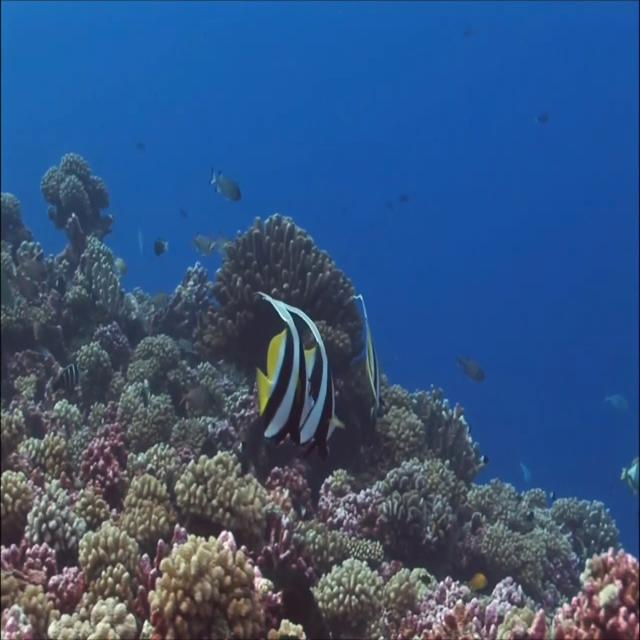Bannerfish: (257, 293, 314, 450), (291, 304, 335, 448)
